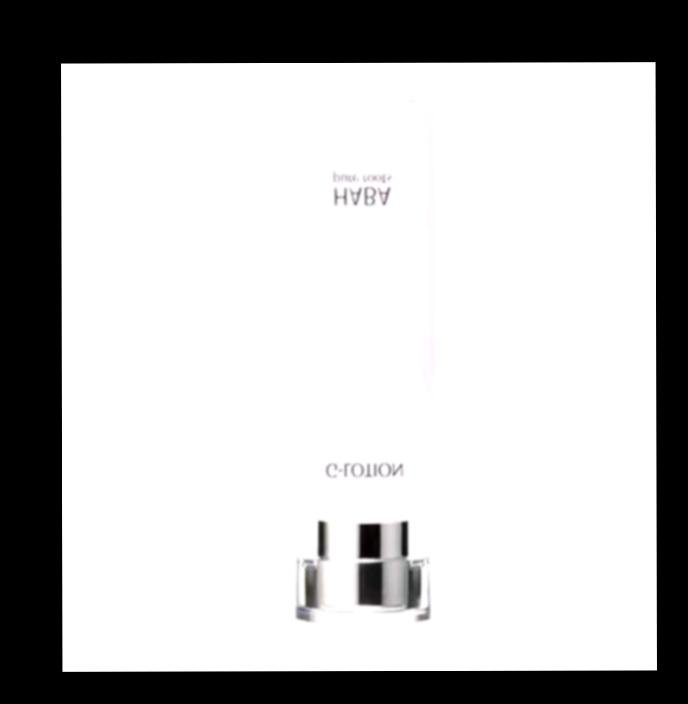cosmetic: (288, 100, 439, 622)
